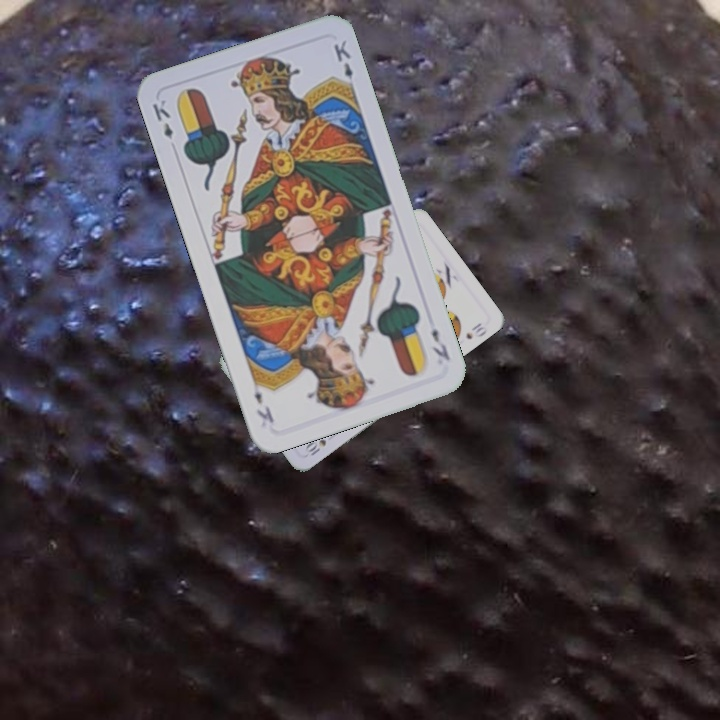EK: (148, 95, 176, 142), (427, 324, 453, 363)
S10: (301, 435, 329, 458)
